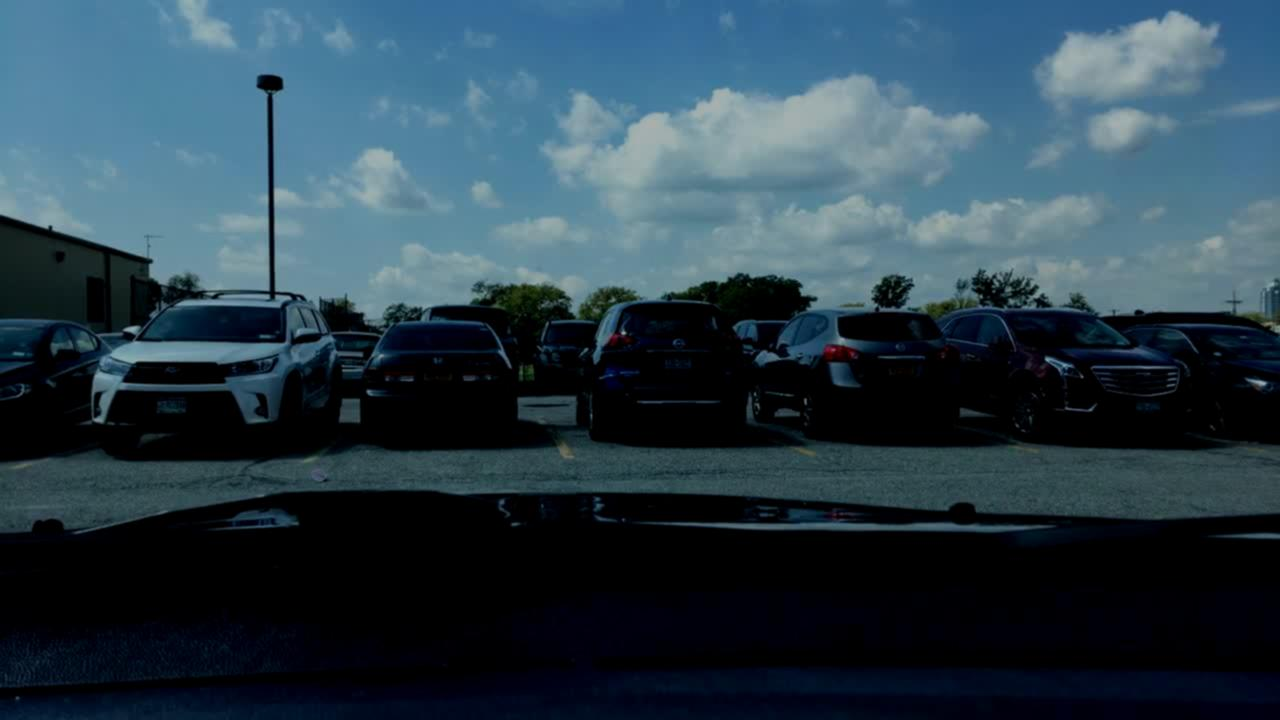Honda: (427, 350, 451, 369)
Nissan: (671, 333, 689, 353), (891, 341, 908, 352)
Toyota: (155, 361, 183, 379)
cadillac: (1131, 367, 1154, 383)
